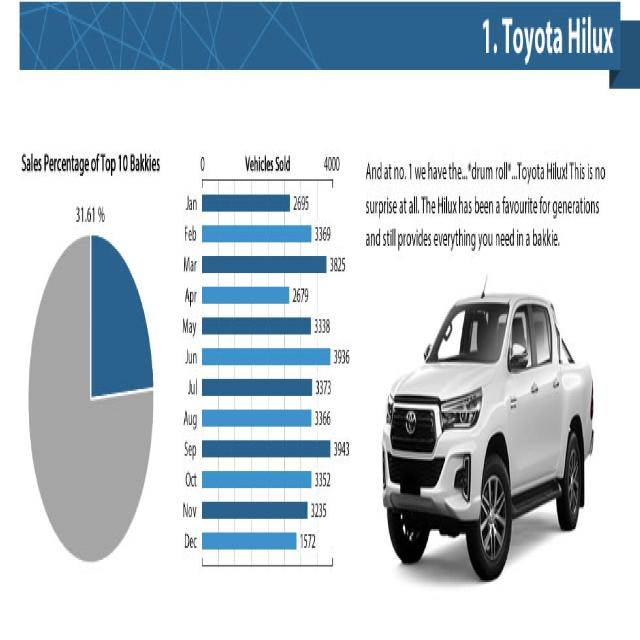Pickup Trucks: (382, 290, 594, 582)
